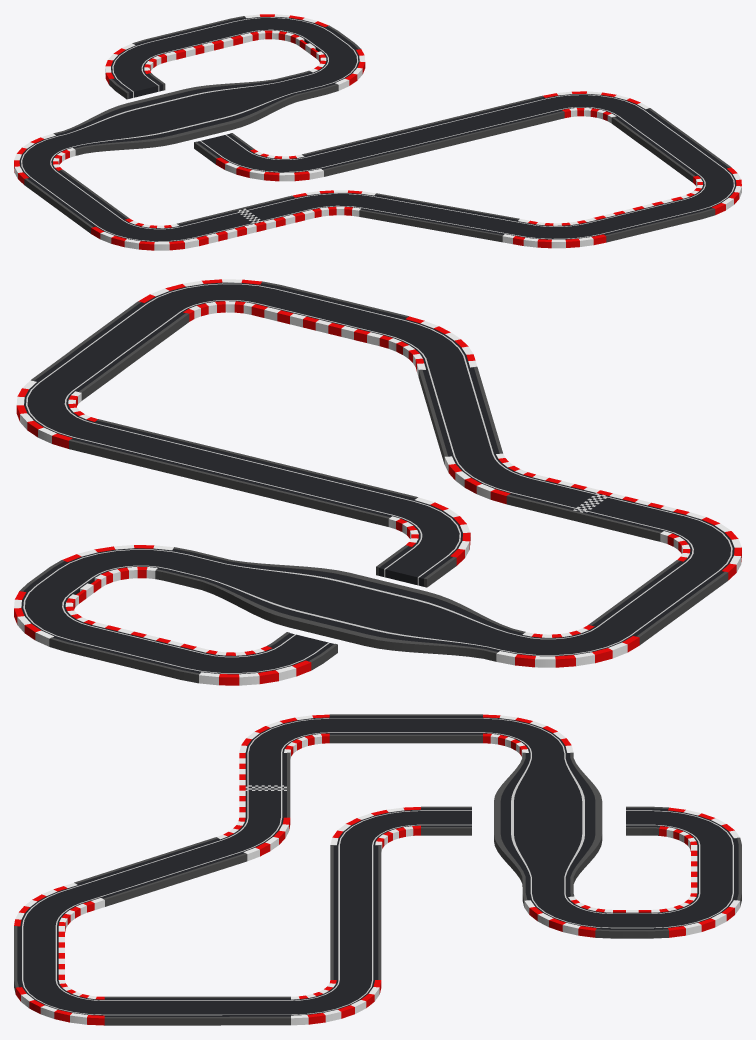
File: CircuitVroomVroom.FBX
The picture shows the model from 3 angles, top to bottom: view 1: azimuth 30°, elevation 25°; view 2: azimuth 150°, elevation 25°; view 3: azimuth 270°, elevation 25°; orthographic projection. The views are drawn at different scales.
Parts seen in each view (by area): view 1: Object015; view 2: Object015; view 3: Object015.
Boxes of the visible parts, x1,y1,x2,y2 form: Object015: (14,14,741,250); Object015: (14,279,741,685); Object015: (14,714,741,1025).
Size of the model in its own units: 5630 by 62.83 by 5702.
